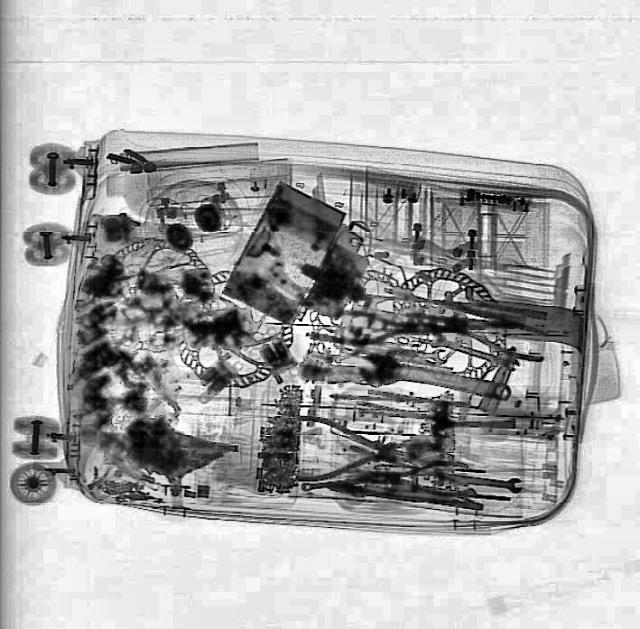Pliers: (284, 414, 396, 483)
Wrench: (356, 348, 514, 406), (436, 466, 522, 495)
